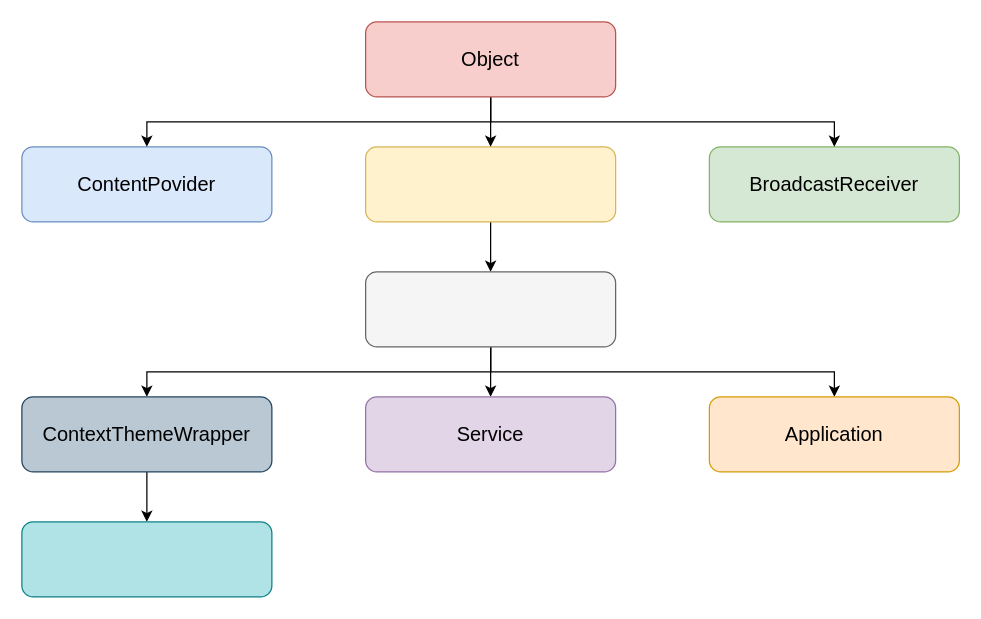
This 981x619 diagram has some shape labels left out. Here are the shapes that lost their labels. From the top down, the centre of each, then its label:
point (490, 184): Context
point (490, 309): ContextWrapper
point (146, 559): Activity
